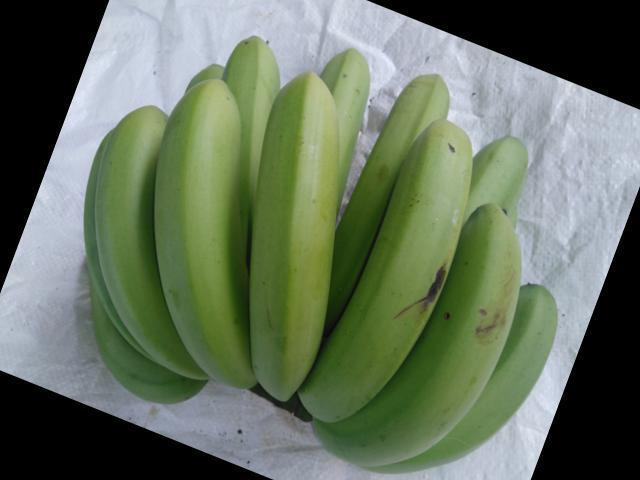freshunripe: (328, 116, 477, 413), (377, 201, 522, 471), (149, 70, 269, 389), (231, 64, 343, 405), (86, 96, 179, 393), (382, 60, 461, 148), (462, 122, 548, 194), (206, 27, 284, 97), (325, 22, 369, 128)
